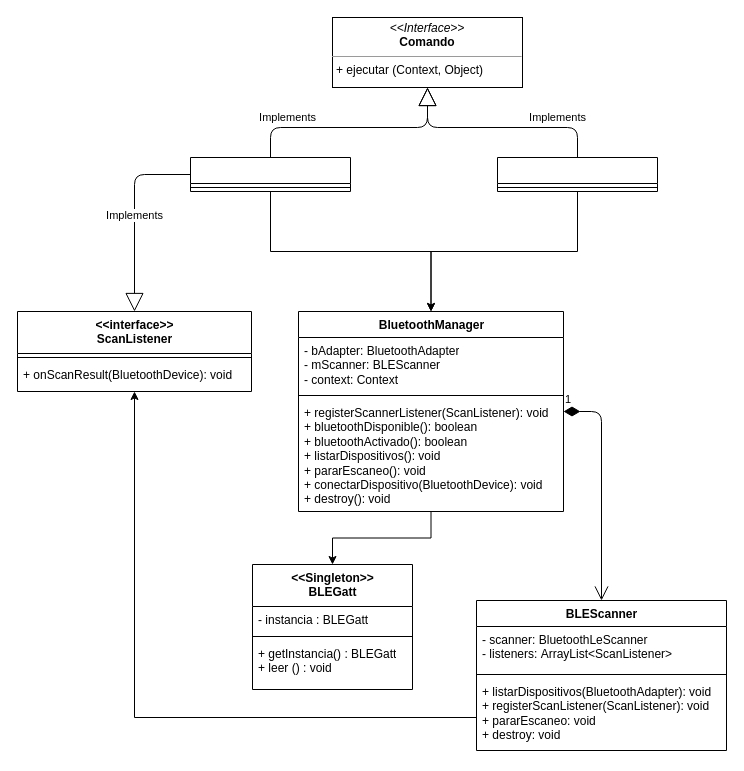
This 744x771 diagram has some shape labels left out. Here are the shapes that lost their labels. From the top down, the centre of each, then its label:
[270,174]: ComandoScanBLE
[577,174]: ComandoConectBLE
